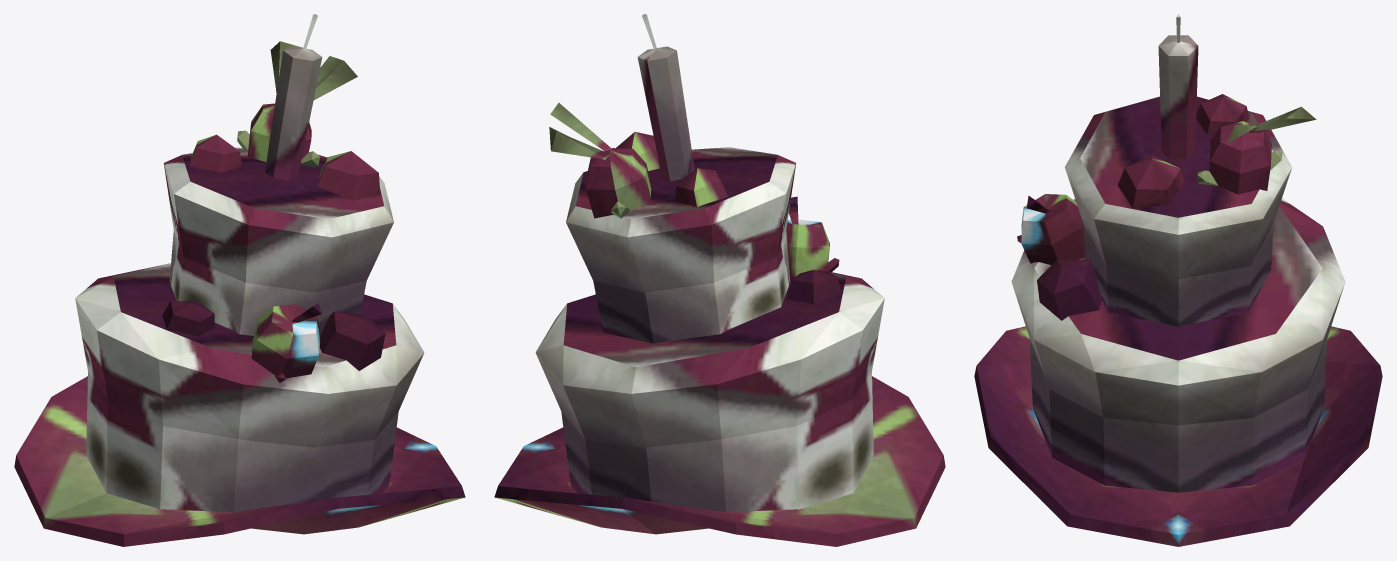
File: Penguin_cakeHat.obj
3 renders of one model, left to right at view 1: azimuth 30°, elevation 25°; view 2: azimuth 150°, elevation 25°; view 3: azimuth 270°, elevation 25°, orthographic.
Visible parts, largest first — view 1: Penguin_cakeHat_tri; view 2: Penguin_cakeHat_tri; view 3: Penguin_cakeHat_tri.
Part boxes in pixels (<box>): Penguin_cakeHat_tri: <box>14,14,465,546</box>; Penguin_cakeHat_tri: <box>494,14,945,546</box>; Penguin_cakeHat_tri: <box>974,14,1382,546</box>.
Size of the model in its own units: 0.5321 by 0.6089 by 0.4774.
Materials: 1 (1 with a texture image).
